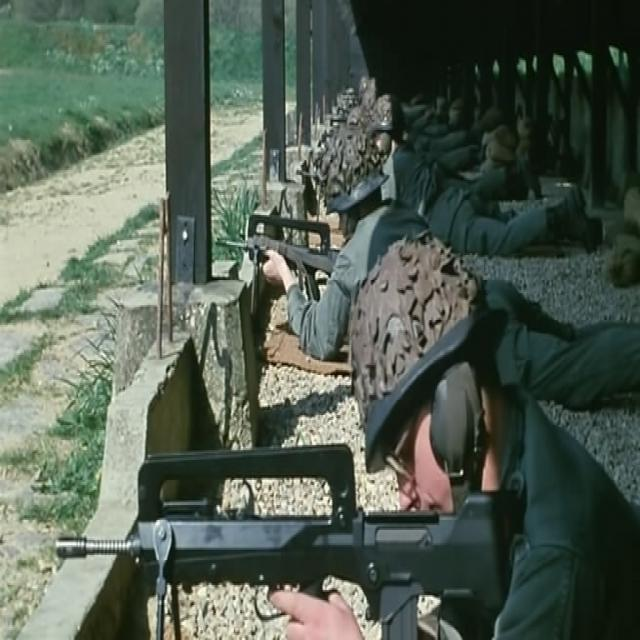gun-knife-thesis - v11 Yolov5 augmented: (46, 430, 516, 638), (209, 198, 369, 324)
